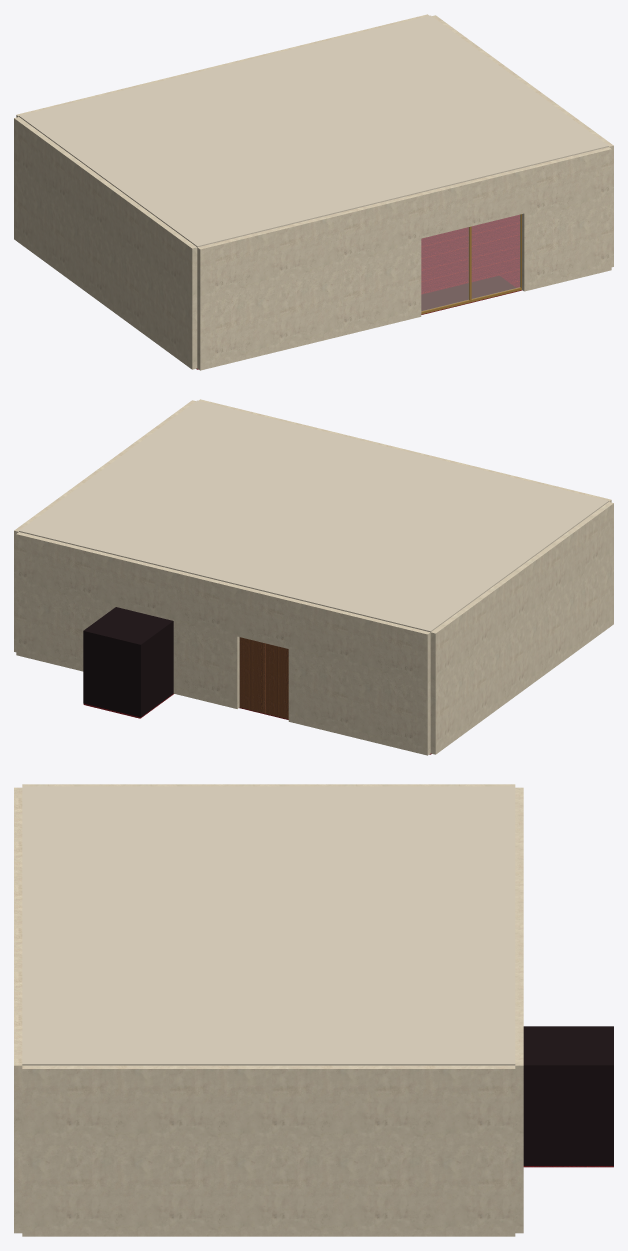
File: nanyang_lobby.glb
3 views of the same model, one above another, from view 1: azimuth 30°, elevation 25°; view 2: azimuth 150°, elevation 25°; view 3: azimuth 270°, elevation 25° (orthographic). The views are drawn at different scales.
Parts seen in each view (by area): view 1: ny_vc_matte, WALL_front_plaster, WALL_left_plaster, ny_glass, ny_carpet, WALL_right_plaster, WALL_back_plaster, ny_vc_metal; view 2: ny_vc_matte, WALL_back_plaster, WALL_left_plaster, ny_wood, WALL_right_plaster, WALL_front_plaster; view 3: ny_vc_matte, WALL_right_plaster, WALL_back_plaster, WALL_front_plaster, WALL_left_plaster.
Part boxes in pixels (x1,y1,x2,y2): ny_vc_matte: (19, 15, 608, 310); WALL_front_plaster: (197, 147, 611, 370); WALL_left_plaster: (14, 117, 197, 369); ny_glass: (421, 215, 520, 311); ny_carpet: (196, 214, 522, 369); WALL_right_plaster: (432, 15, 613, 267); WALL_back_plaster: (16, 14, 428, 117); ny_vc_metal: (421, 214, 521, 314); ny_vc_matte: (19, 400, 608, 717); WALL_back_plaster: (16, 532, 430, 755); WALL_left_plaster: (430, 502, 613, 754); ny_wood: (239, 637, 288, 719); WALL_right_plaster: (14, 400, 195, 652); WALL_front_plaster: (199, 399, 611, 502); ny_vc_matte: (22, 786, 613, 1165); WALL_right_plaster: (22, 1065, 515, 1236); WALL_back_plaster: (515, 787, 523, 1233); WALL_front_plaster: (14, 787, 22, 1233); WALL_left_plaster: (22, 784, 515, 786).
Bounding box in the file's own units: 16.4 × 4.59 × 14.6.
12 materials, 7 textured.
